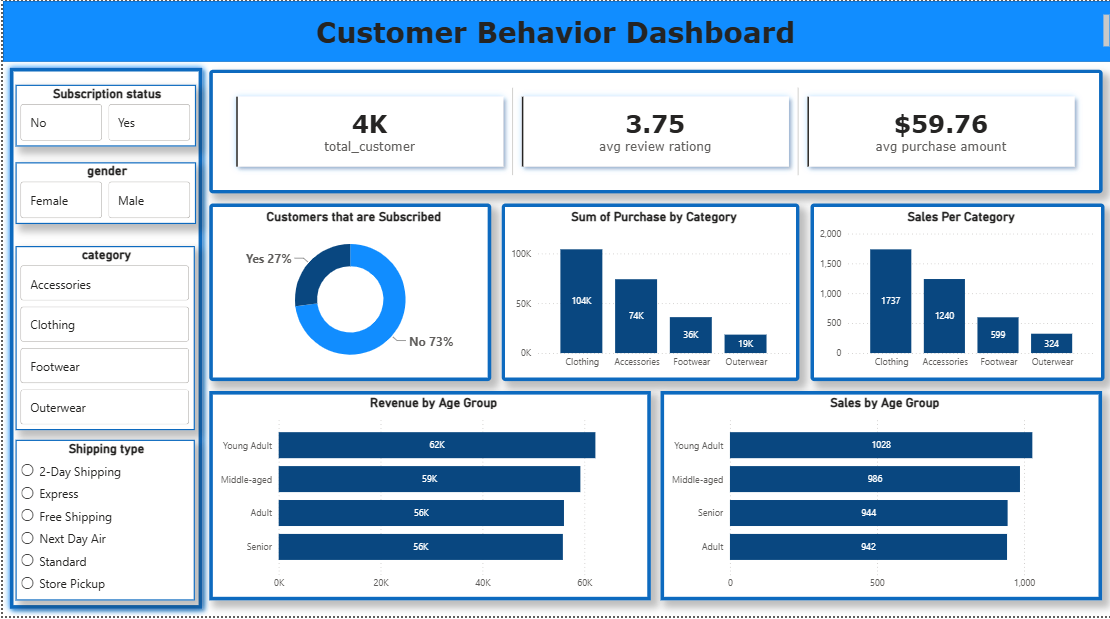

The page's visual inventory and layout, read from the dashboard file:
{"tool":"powerbi","page":{"name":"Page 1","canvas":[1480,820],"ordinal":0},"visuals":[{"type":"cardVisual","fields":{"Data":["_behaviourcustomer customer_shopping.total_customer","_behaviourcustomer customer_shopping.avg review rationg","_behaviourcustomer customer_shopping.avg purchase amout"]},"box":[274.5,92,1191.6,165],"z":0},{"type":"shape","box":[0,0,1480.3,80.9],"z":1},{"type":"textbox","box":[0,12.7,1480.3,53.9],"z":2},{"type":"shape","box":[0,80.3,274.8,739.5],"z":3},{"type":"donutChart","title":"Customers that are Subscribed","fields":{"Category":["_behaviourcustomer customer_shopping.subscription_status"],"Y":["CountNonNull(_behaviourcustomer customer_shopping.customer_id)"]},"box":[274.5,269.7,376,236.4],"z":4},{"type":"clusteredColumnChart","title":"Sum of Purchase by Category","fields":{"Category":["_behaviourcustomer customer_shopping.category"],"Y":["Sum(_behaviourcustomer customer_shopping.purchase_amount)"]},"box":[664.8,269.7,396.7,236.4],"z":5},{"type":"clusteredColumnChart","title":"Sales Per Category","fields":{"Category":["_behaviourcustomer customer_shopping.category"],"Y":["CountNonNull(_behaviourcustomer customer_shopping.customer_id)"]},"box":[1077.3,269.7,391.9,236.4],"z":6},{"type":"advancedSlicerVisual","fields":{"Values":["_behaviourcustomer customer_shopping.subscription_status"]},"box":[15.9,111.1,241.2,82.5],"z":7},{"type":"advancedSlicerVisual","fields":{"Values":["_behaviourcustomer customer_shopping.gender"]},"box":[15.9,215.8,241.2,82.5],"z":8},{"type":"advancedSlicerVisual","fields":{"Values":["_behaviourcustomer customer_shopping.category"]},"box":[17.5,326.8,239.6,245.9],"z":9},{"type":"listSlicer","title":"Shipping type","fields":{"Values":["_behaviourcustomer customer_shopping.shipping_type"]},"box":[17.5,585.5,239.6,214.2],"z":10},{"type":"clusteredBarChart","title":"Revenue by Age Group","fields":{"Y":["Sum(_behaviourcustomer customer_shopping.purchase_amount)"],"Category":["_behaviourcustomer customer_shopping.age_group"]},"box":[274.5,520.4,588.6,279.2],"z":11},{"type":"clusteredBarChart","title":"Sales by Age Group","fields":{"Y":["CountNonNull(_behaviourcustomer customer_shopping.customer_id)"],"Category":["_behaviourcustomer customer_shopping.age_group"]},"box":[877.4,520.4,588.6,279.2],"z":12}]}

Visuals, with their boxes in screenshot pixels (x1, y1, x2, y2), scaled from the page's 1480x820 canvas onto the 1110x619 screenshot:
cardVisual - _behaviourcustomer customer_shopping.total_customer x _behaviourcustomer customer_shopping.avg review rationg: 206:69:1100:194
shape: 0:0:1109:61
textbox: 0:10:1109:50
shape: 0:61:206:618
"Customers that are Subscribed" donutChart: 206:204:488:382
"Sum of Purchase by Category" clusteredColumnChart: 499:204:796:382
"Sales Per Category" clusteredColumnChart: 808:204:1102:382
advancedSlicerVisual - _behaviourcustomer customer_shopping.subscription_status: 12:84:193:146
advancedSlicerVisual - _behaviourcustomer customer_shopping.gender: 12:163:193:225
advancedSlicerVisual - _behaviourcustomer customer_shopping.category: 13:247:193:432
"Shipping type" listSlicer: 13:442:193:604
"Revenue by Age Group" clusteredBarChart: 206:393:647:604
"Sales by Age Group" clusteredBarChart: 658:393:1100:604
